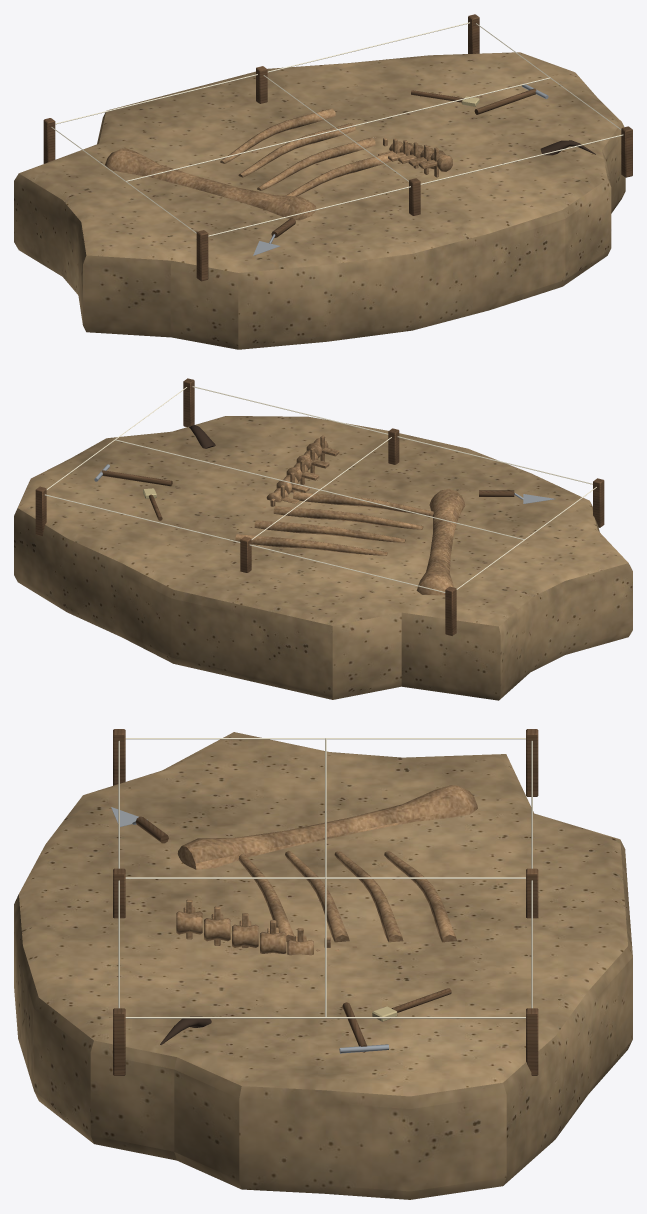
The model's file is fossil-dig-slab.glb.
3 views of the same model, one above another, from view 1: azimuth 30°, elevation 25°; view 2: azimuth 150°, elevation 25°; view 3: azimuth 270°, elevation 25° (orthographic). The views are drawn at different scales.
Parts seen in each view (by area): view 1: Fossil_Dig_Slab; view 2: Fossil_Dig_Slab; view 3: Fossil_Dig_Slab.
Boxes of the visible parts, box(x1,y1,x2,y2) form: Fossil_Dig_Slab: box(14, 14, 632, 349); Fossil_Dig_Slab: box(14, 378, 632, 700); Fossil_Dig_Slab: box(14, 729, 632, 1199).
Bounding box in the file's own units: 2.12 × 0.4252 × 1.5.
Materials: 7 (3 with a texture image).
